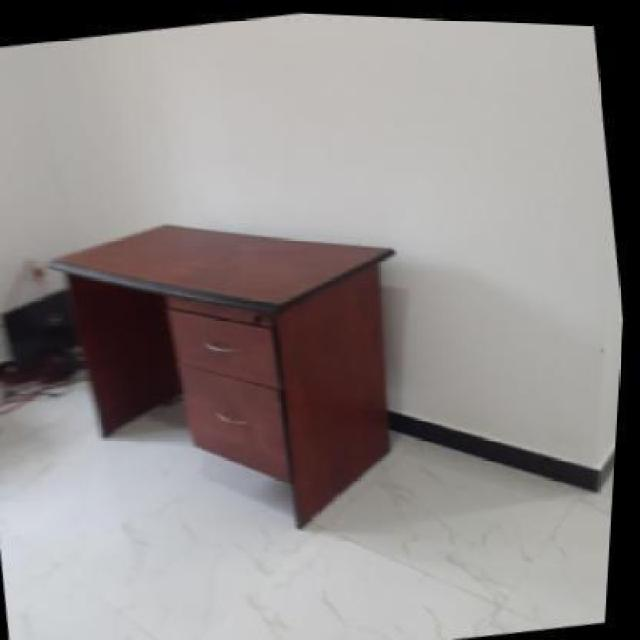tables: (48, 222, 395, 528)
